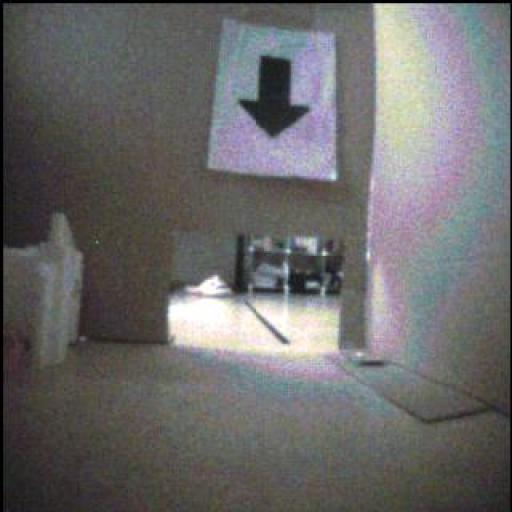arrow: (241, 57, 310, 139)
